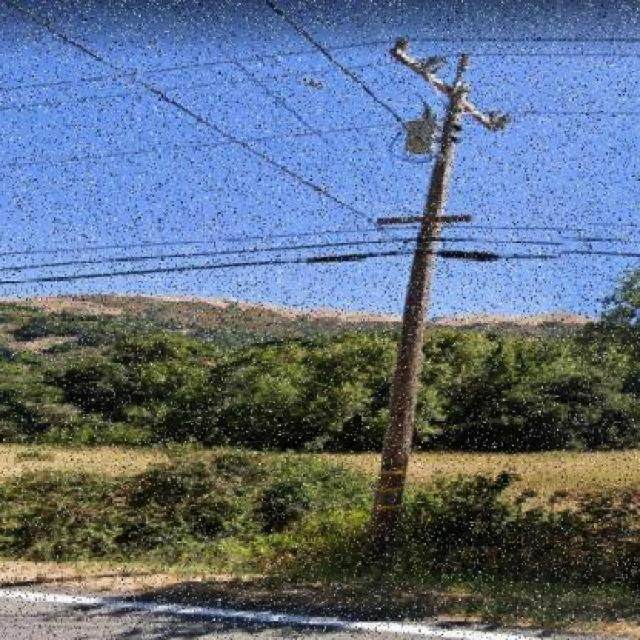crossarm: (388, 37, 512, 132)
pole: (369, 58, 466, 549)
transformer: (402, 109, 445, 158)
wire: (0, 0, 377, 225), (2, 109, 640, 174), (0, 51, 640, 115), (2, 36, 640, 95), (1, 248, 639, 288), (1, 236, 638, 275), (258, 0, 403, 123)
